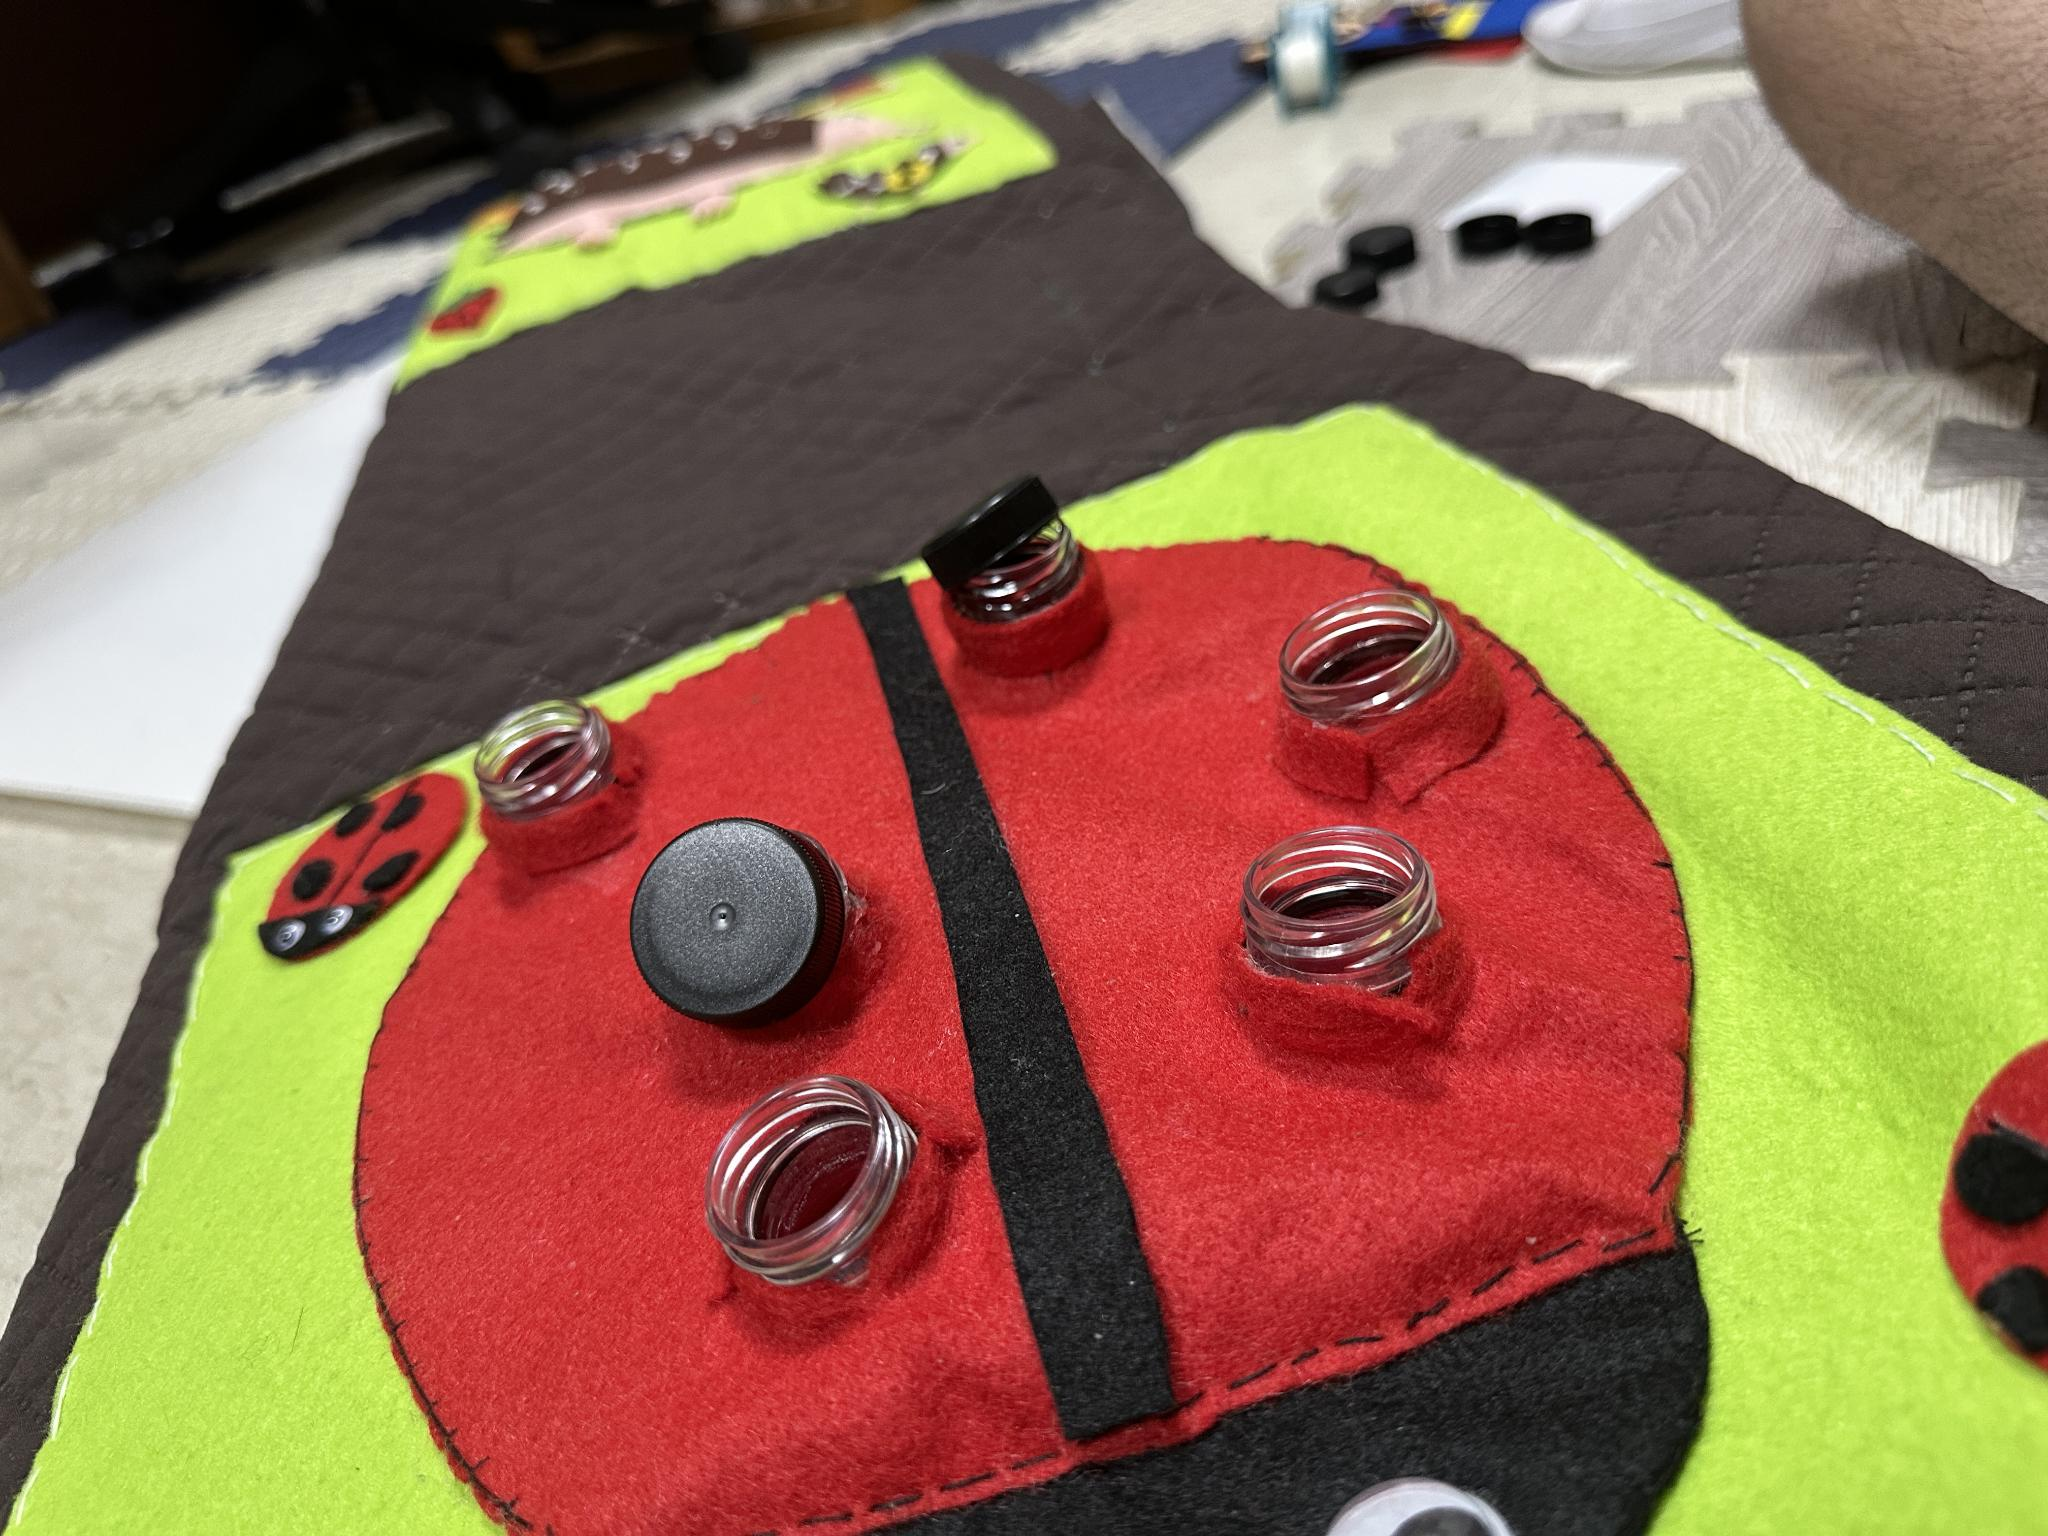cap_ng: (592, 803, 914, 1063), (901, 458, 1140, 720)
